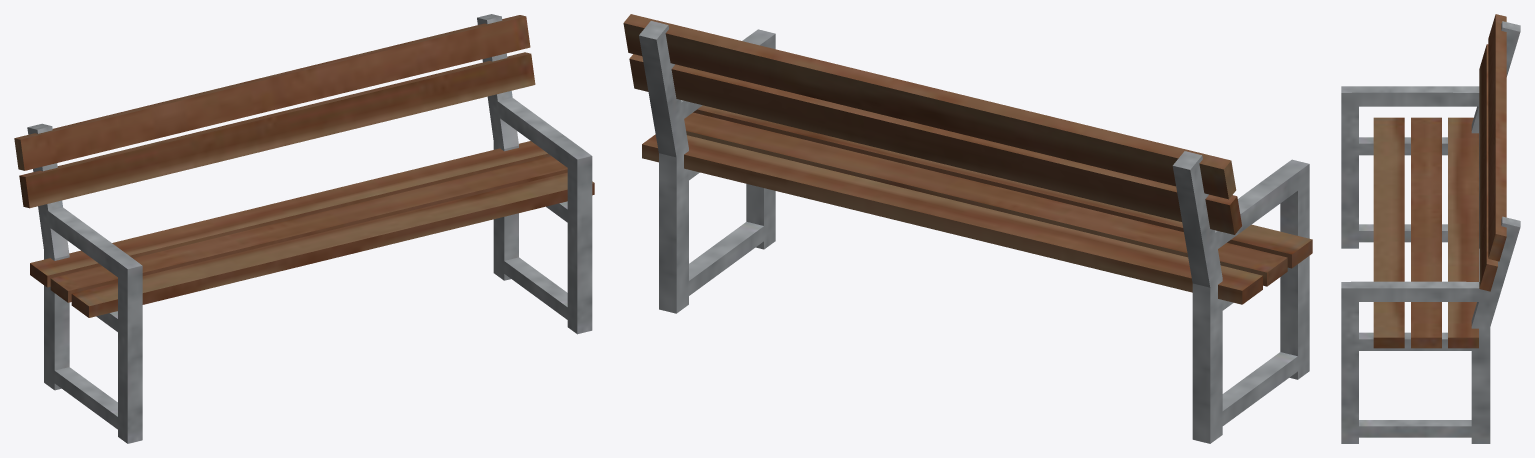
The model's file is Bench.fbx.
3 views of the same model, side by side, from view 1: azimuth 30°, elevation 25°; view 2: azimuth 150°, elevation 25°; view 3: azimuth 270°, elevation 25° (orthographic). The views are drawn at different scales.
Visible parts, largest first — view 1: bench 27.002; view 2: bench 27.002; view 3: bench 27.002.
Part boxes in pixels (box(x1,y1,x2,y2)): bench 27.002: box(14, 14, 594, 443); bench 27.002: box(623, 14, 1312, 443); bench 27.002: box(1341, 14, 1520, 443).
Size of the model in its own units: 9 by 4.22 by 3.1.
